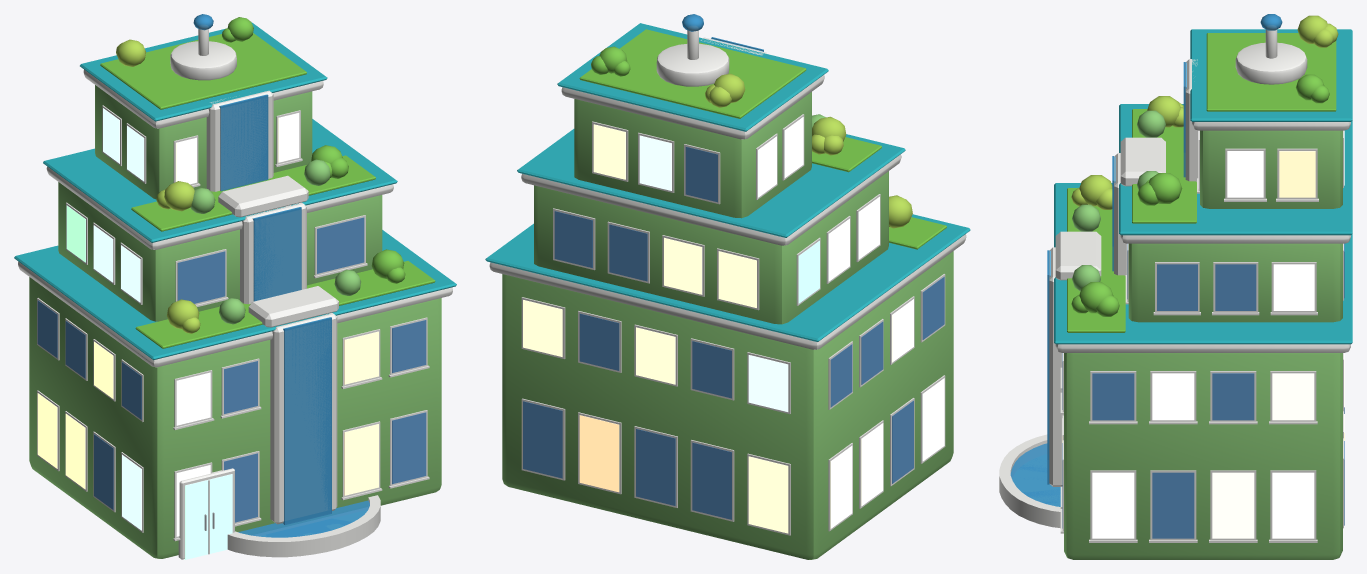
Rendered from predio_cascata.glb.
3 views of the same model, side by side, from view 1: azimuth 30°, elevation 25°; view 2: azimuth 150°, elevation 25°; view 3: azimuth 270°, elevation 25° (orthographic). The views are drawn at different scales.
Parts seen in each view (by area): view 1: predio_cascata; view 2: predio_cascata; view 3: predio_cascata.
Part boxes in pixels (x1,y1,x2,y2): predio_cascata: [14, 14, 456, 559]; predio_cascata: [485, 14, 970, 559]; predio_cascata: [999, 14, 1352, 559].
Bounding box in the file's own units: 11.6 × 16.1 × 10.89.
Materials: 7 (1 with a texture image).
